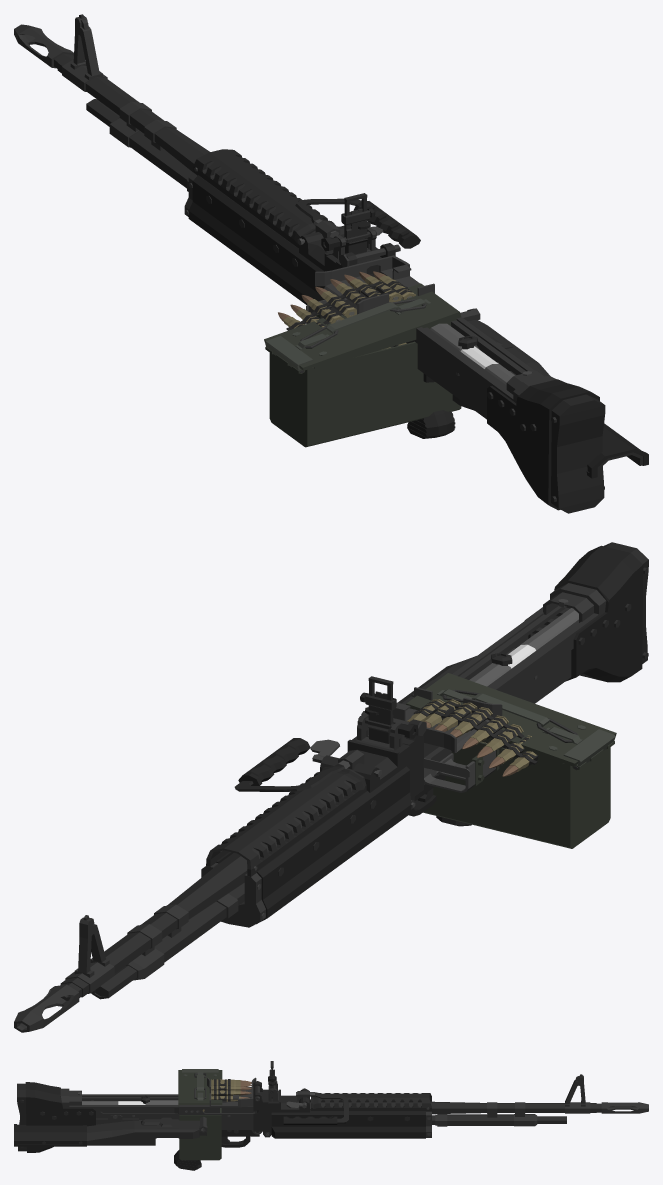
3 renders of one model, top to bottom at view 1: azimuth 30°, elevation 25°; view 2: azimuth 150°, elevation 25°; view 3: azimuth 270°, elevation 25°, orthographic. The views are drawn at different scales.
Visible parts, largest first — view 1: Body, Magazine, Belt, Cover; view 2: Body, Magazine, Belt; view 3: Body, Cover, Magazine, Belt.
Boxes of the visible parts, <box> form: Body: <box>14,14,605,513</box>; Magazine: <box>264,283,461,447</box>; Belt: <box>278,271,415,330</box>; Cover: <box>452,319,648,478</box>; Body: <box>14,542,648,1032</box>; Magazine: <box>406,673,616,848</box>; Belt: <box>407,699,538,776</box>; Body: <box>17,1061,648,1170</box>; Cover: <box>14,1110,206,1146</box>; Magazine: <box>178,1069,222,1160</box>; Belt: <box>211,1079,251,1102</box>.
Bounding box in the file's own units: 0.3074 × 0.2525 × 1.41.
